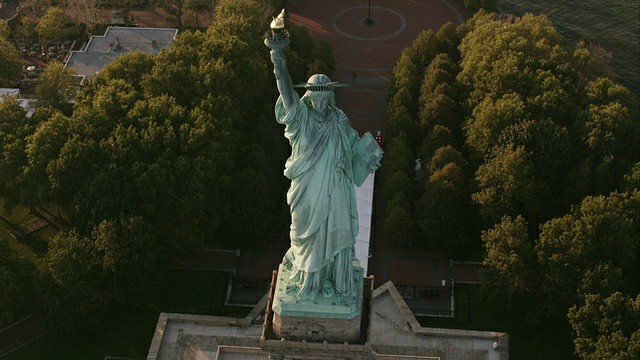SL: (260, 9, 384, 360)
